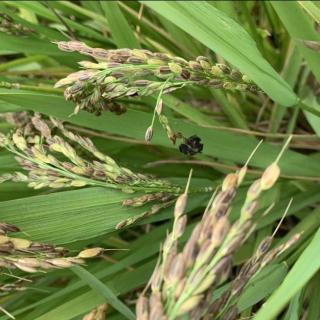Gosong-Palsu: (177, 133, 205, 157)
